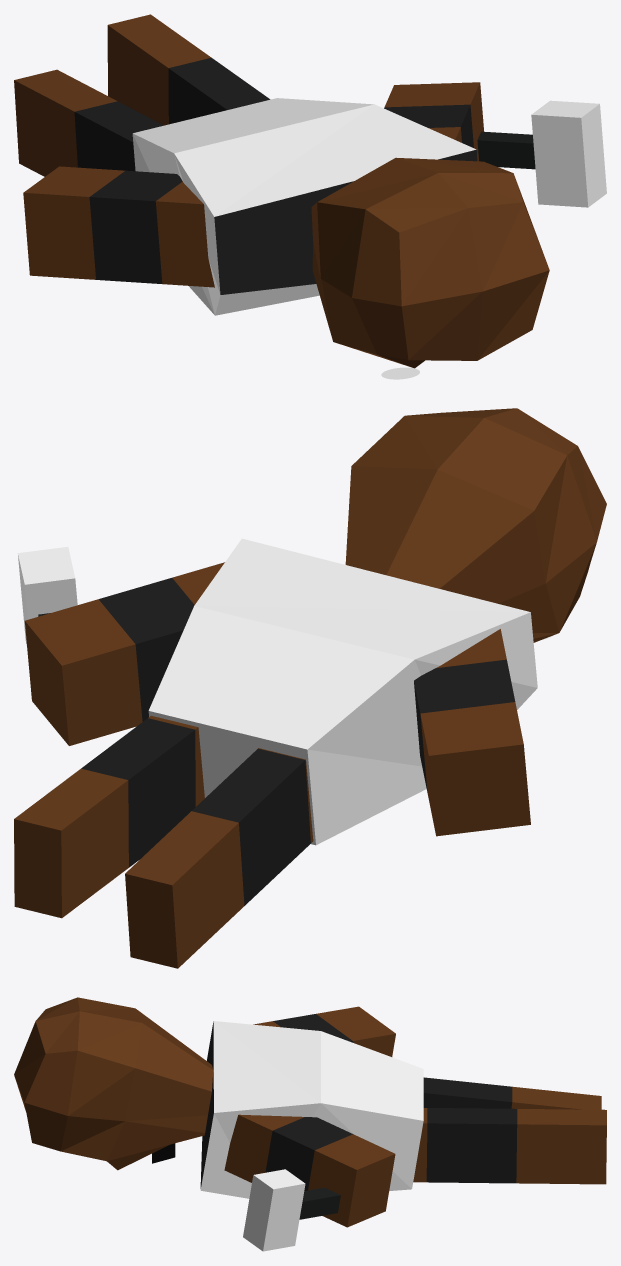
Rendered from slave3d.obj.
The picture shows the model from 3 angles, top to bottom: view 1: azimuth 30°, elevation 25°; view 2: azimuth 150°, elevation 25°; view 3: azimuth 270°, elevation 25°; orthographic projection. The views are drawn at different scales.
Visible parts, largest first — view 1: Cube, Cube.001, Cube.003, Cube.005, Cube.004, Cube.008, Cube.002, Cube.007; view 2: Cube.001, Cube, Cube.004, Cube.005, Cube.002, Cube.003, Cube.008; view 3: Cube, Cube.001, Cube.005, Cube.002, Cube.004, Cube.008, Cube.003, Cube.007.
Boxes of the visible parts, <box> form: Cube: <box>311,157,549,368</box>; Cube.001: <box>132,98,477,315</box>; Cube.003: <box>23,166,214,287</box>; Cube.005: <box>107,14,270,125</box>; Cube.004: <box>14,69,163,176</box>; Cube.008: <box>531,100,606,207</box>; Cube.002: <box>384,82,483,161</box>; Cube.007: <box>477,131,535,169</box>; Cube.001: <box>148,538,537,845</box>; Cube: <box>345,408,606,642</box>; Cube.004: <box>125,748,313,968</box>; Cube.005: <box>14,715,204,918</box>; Cube.002: <box>24,562,224,745</box>; Cube.003: <box>414,629,530,836</box>; Cube.008: <box>18,547,77,645</box>; Cube: <box>14,997,213,1170</box>; Cube.001: <box>200,1021,423,1198</box>; Cube.005: <box>413,1108,606,1184</box>; Cube.002: <box>224,1114,395,1227</box>; Cube.004: <box>423,1077,601,1109</box>; Cube.008: <box>243,1169,305,1251</box>; Cube.003: <box>253,1006,395,1056</box>; Cube.007: <box>299,1187,340,1219</box>.
Size of the model in its own units: 4.16 by 1.75 by 5.59.
